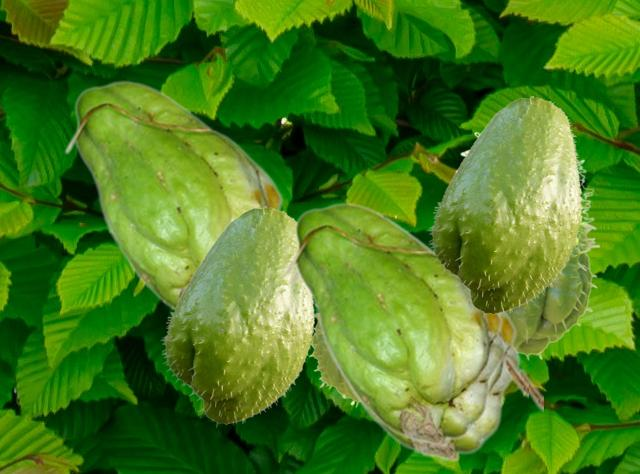sayote: (289, 212, 542, 461), (283, 202, 527, 446), (63, 80, 284, 311), (160, 206, 315, 426), (427, 96, 582, 316), (455, 131, 599, 361), (308, 312, 358, 407)
